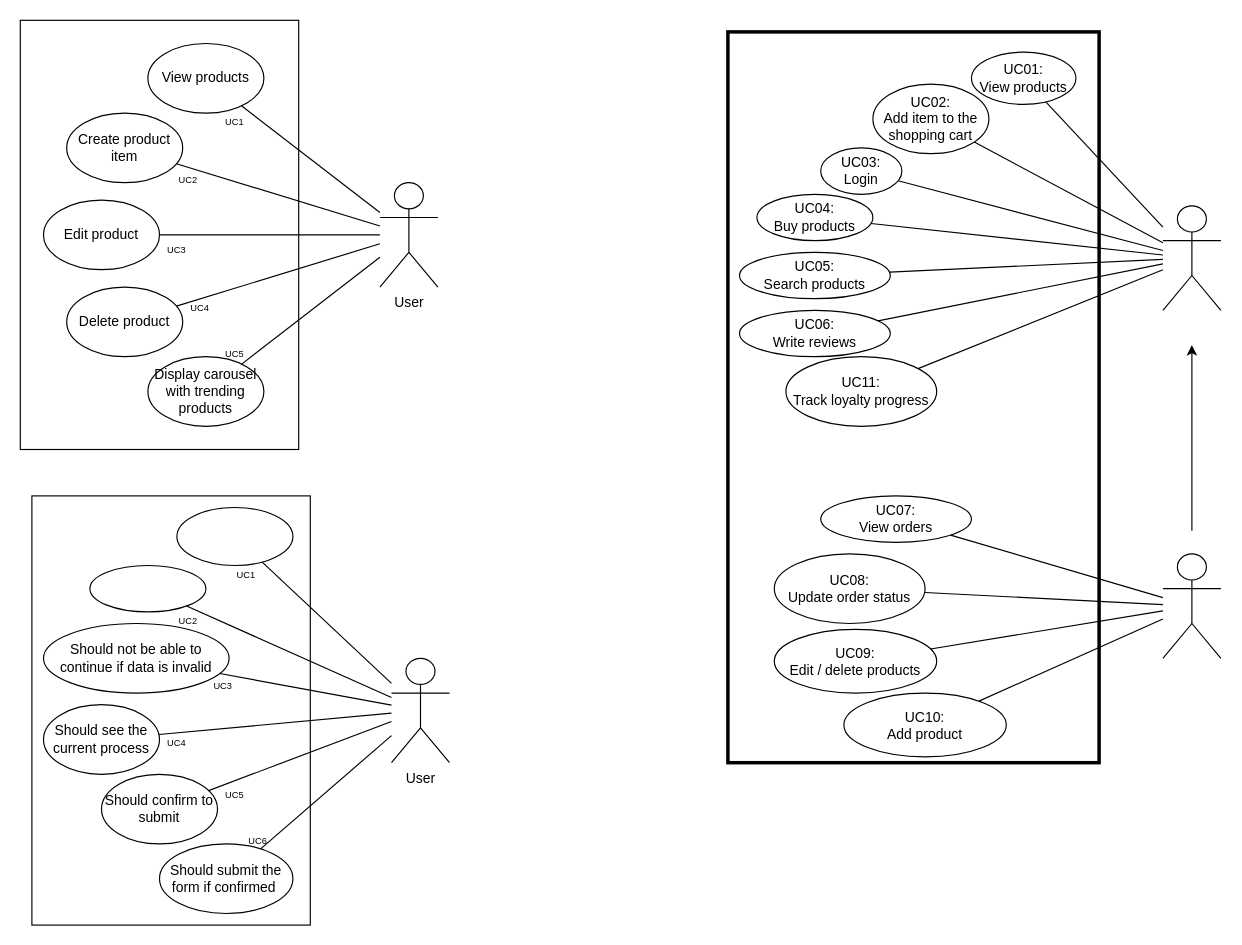
Image size: 1242x945. Some labels were removed from this diagram. The shapes that lost their labels are listed below. From the top down, each one's centre as x and y in pixels, then its label:
At pixel 1191 257: "Customer".
At pixel 234 536: "Enter shipping details".
At pixel 147 588: "Enter card details".
At pixel 1191 605: "Admin".
